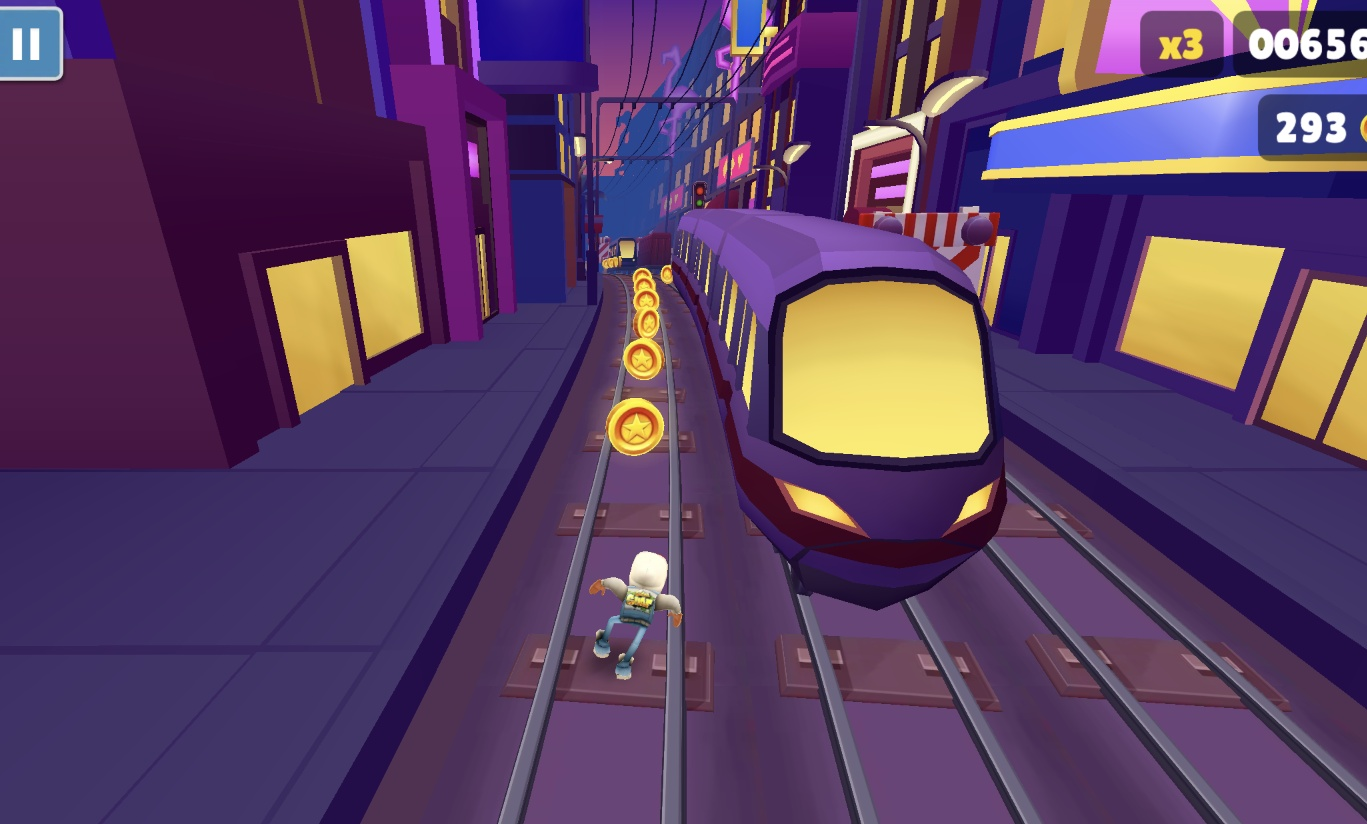overhead_barrier: (855, 207, 1000, 340)
train: (669, 209, 1015, 612), (637, 231, 676, 273), (614, 238, 640, 269)
